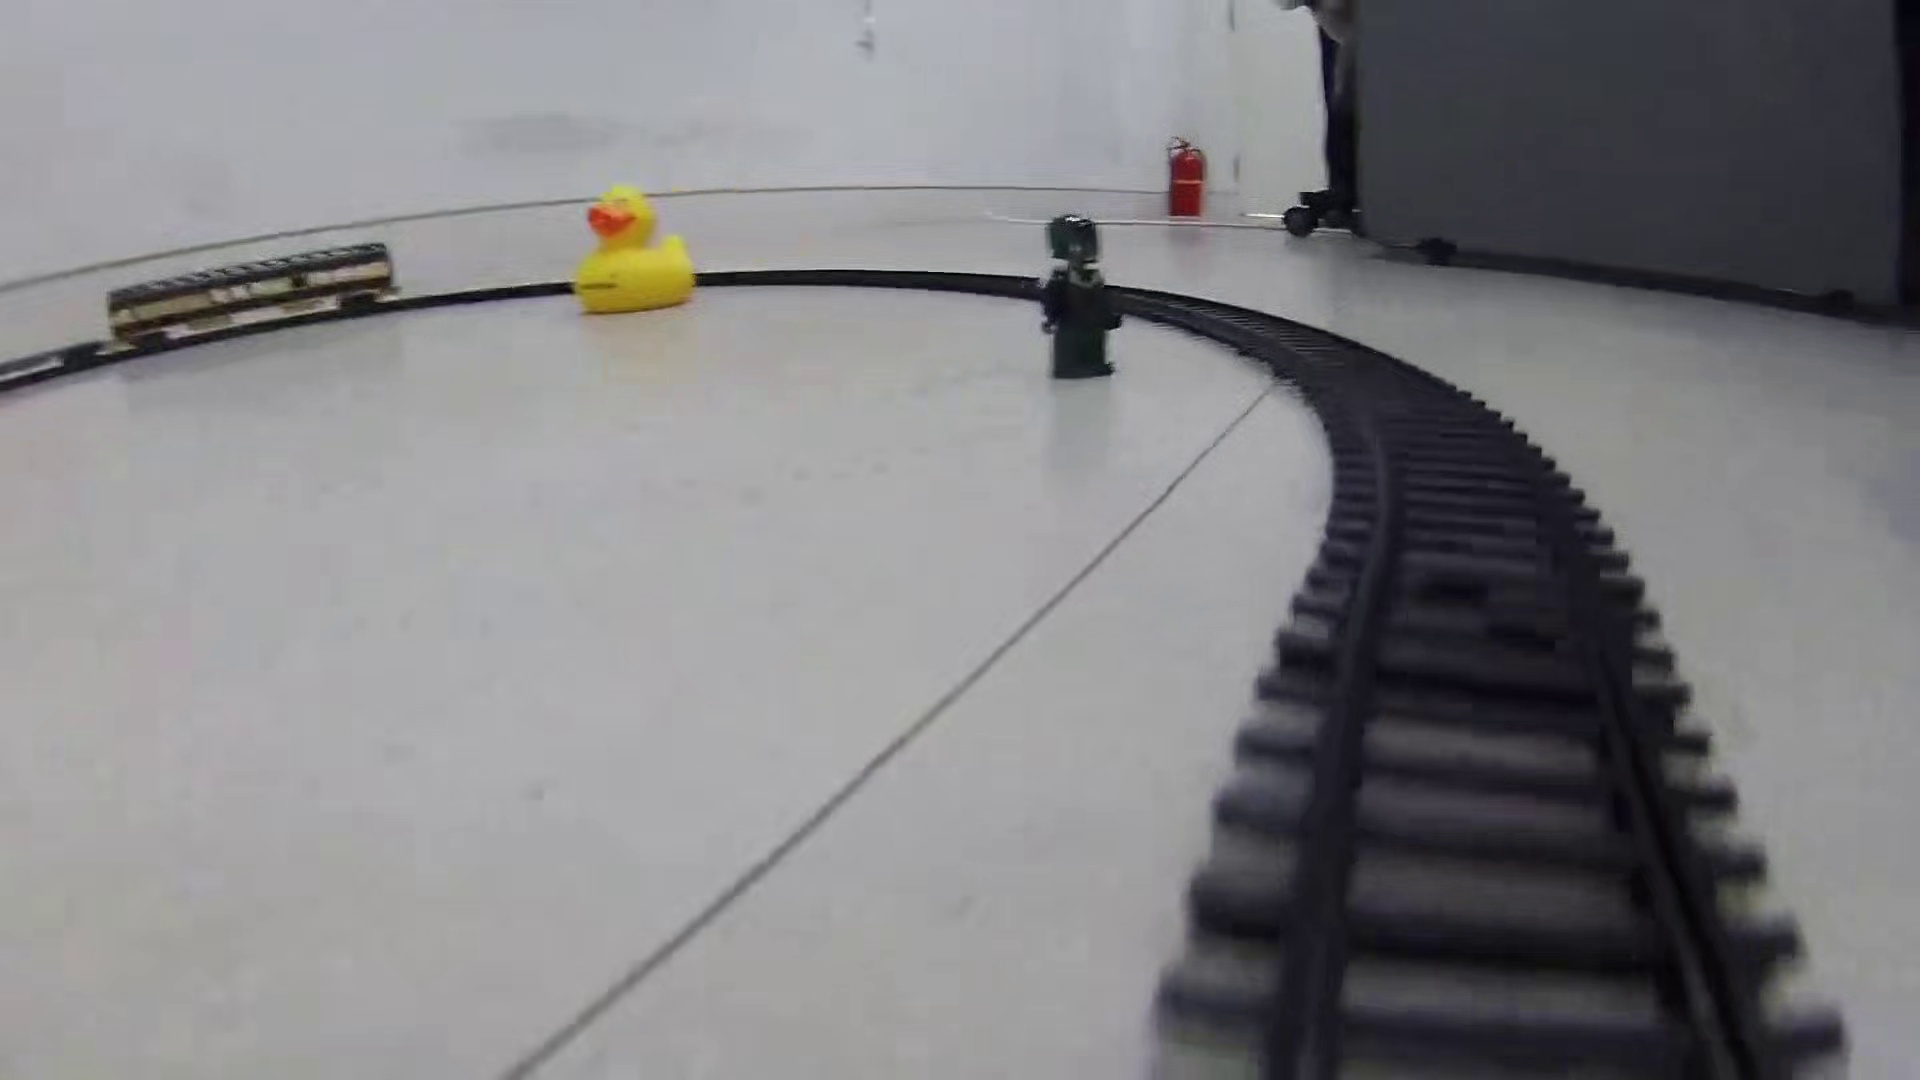people: (1035, 215, 1125, 383)
